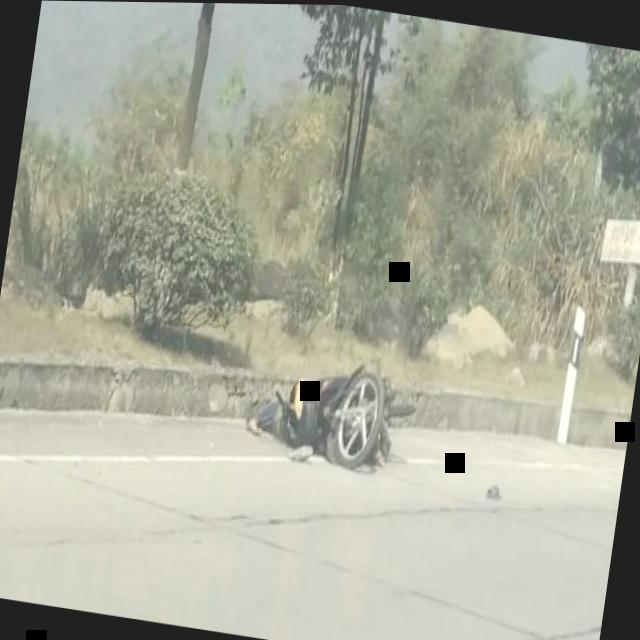Fall-Detected: (232, 341, 410, 483)
